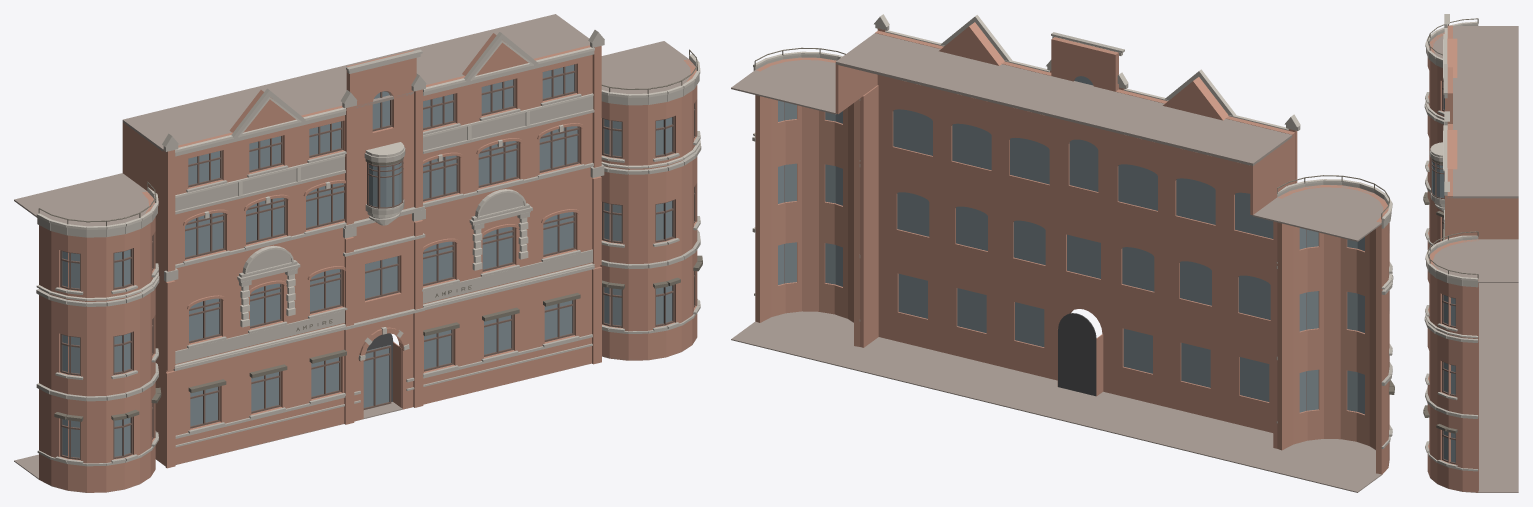
File: huangpu-ampire-and-co-building-lod.glb
3 renders of one model, left to right at view 1: azimuth 30°, elevation 25°; view 2: azimuth 150°, elevation 25°; view 3: azimuth 270°, elevation 25°, orthographic. The views are drawn at different scales.
Parts seen in each view (by area): view 1: 安培洋行大楼圆明园路主立面; view 2: 安培洋行大楼圆明园路主立面; view 3: 安培洋行大楼圆明园路主立面.
Part boxes in pixels (box(x1,y1,x2,y2)): 安培洋行大楼圆明园路主立面: box(14, 14, 702, 492); 安培洋行大楼圆明园路主立面: box(731, 14, 1394, 492); 安培洋行大楼圆明园路主立面: box(1423, 14, 1518, 492).
Size of the model in its own units: 32.32 by 16.75 by 5.04.
